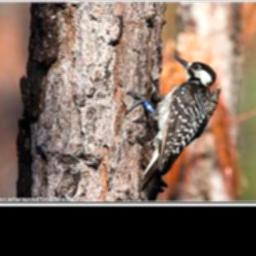Woodpecker: (114, 50, 229, 201)
